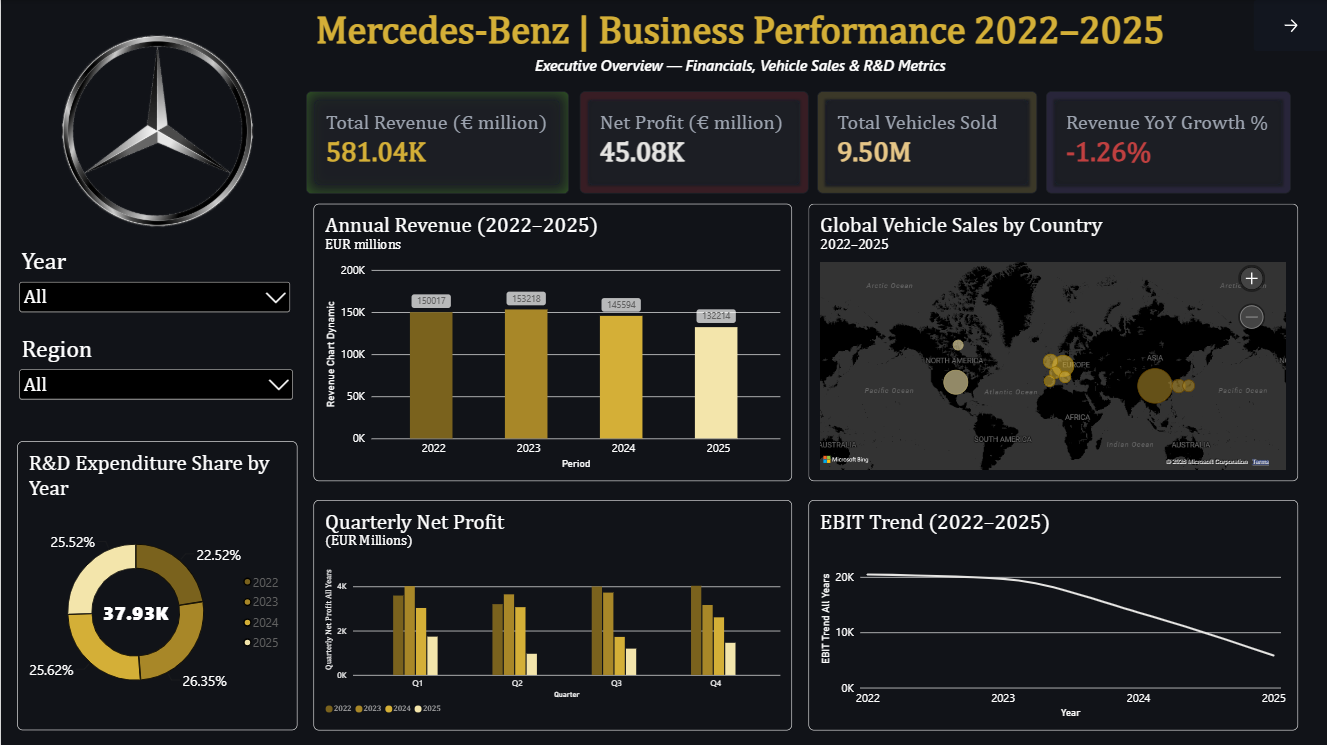

This screenshot's page, from the dashboard's own definition file:
{"tool":"powerbi","page":{"name":"Page 1","canvas":[1920,1080],"ordinal":0},"visuals":[{"type":"cardVisual","title":"Total Revenue","fields":{"Data":["Annual_Financials_All.Total Revenue"]},"box":[442.4,131.4,380.6,148.8],"z":0},{"type":"cardVisual","fields":{"Data":["Annual_Financials_All.Net Profit"]},"box":[837.9,132.1,331.2,148],"z":1000},{"type":"cardVisual","fields":{"Data":["Global_Total.Total Vehicles Sold"]},"box":[1181.7,132.1,318.5,148.4],"z":2000},{"type":"clusteredColumnChart","title":"Quarterly Net Profit ","fields":{"Category":["Dim_Quarter.Quarter"],"Series":["Dim_Year.Year"],"Y":["Quarterly_KeyFigures_2023.Quarterly Net Profit All Years"]},"box":[452.5,724,693.1,333.3],"z":3000},{"type":"lineChart","title":"EBIT Trend (2022–2025)","fields":{"Category":["Annual_Financials_All.Year"],"Y":["Annual_Financials_All.EBIT Trend All Years"]},"box":[1169.9,724,708.6,333.3],"z":4000},{"type":"textbox","box":[224.4,14.5,1692,117.6],"z":5000},{"type":"lineClusteredColumnComboChart","fields":{"Category":["Revenue_Chart_Axis.Period"],"Y":["Revenue_Chart_Axis.Revenue Chart Dynamic"]},"box":[452.5,295.8,693.1,401.7],"z":6000},{"type":"donutChart","title":"R&D Expenditure Share by Year","fields":{"Category":["Dim_Year.Year"],"Y":["Quarterly_KeyFigures_2022.R&D Expenditure Dynamic"]},"box":[23.5,638.8,405.4,418],"z":7000},{"type":"image","box":[0,36.2,441.6,305.8],"z":8000},{"type":"map","title":"Global Vehicle Sales by Country","fields":{"Category":["Country_Unit_Sold.Country"],"Series":["Country_Unit_Sold.Region"],"Size":["Sum(Country_Unit_Sold.Units_Sold)"]},"box":[1169.9,295.8,708.6,401.7],"z":9000},{"type":"slicer","fields":{"Values":["Dim_Region.Region"]},"box":[21.7,486.8,406.2,106],"z":10000},{"type":"slicer","fields":{"Values":["Dim_Year.Year"]},"box":[21.7,360.1,401.7,112.6],"z":11000},{"type":"cardVisual","title":"Revenue Growth YoY","fields":{"Data":["Annual_Financials_All.Revenue YoY Growth %"]},"box":[1512.9,132.1,354.7,148.4],"z":12000},{"type":"actionButton","box":[1813.1,0,107.3,74],"z":13000}]}

Visuals, with their boxes in screenshot pixels (x1, y1, x2, y2), scaled from the page's 1920x1080 canvas onto the 1327x745 screenshot:
"Total Revenue" cardVisual: {"left": 306, "top": 91, "right": 569, "bottom": 193}
cardVisual - Annual_Financials_All.Net Profit: {"left": 579, "top": 91, "right": 808, "bottom": 193}
cardVisual - Global_Total.Total Vehicles Sold: {"left": 817, "top": 91, "right": 1037, "bottom": 193}
"Quarterly Net Profit " clusteredColumnChart: {"left": 313, "top": 499, "right": 792, "bottom": 729}
"EBIT Trend (2022–2025)" lineChart: {"left": 809, "top": 499, "right": 1298, "bottom": 729}
textbox: {"left": 155, "top": 10, "right": 1325, "bottom": 91}
lineClusteredColumnComboChart - Revenue_Chart_Axis.Period x Revenue_Chart_Axis.Revenue Chart Dynamic: {"left": 313, "top": 204, "right": 792, "bottom": 481}
"R&D Expenditure Share by Year" donutChart: {"left": 16, "top": 441, "right": 296, "bottom": 729}
image: {"left": 0, "top": 25, "right": 305, "bottom": 236}
"Global Vehicle Sales by Country" map: {"left": 809, "top": 204, "right": 1298, "bottom": 481}
slicer - Dim_Region.Region: {"left": 15, "top": 336, "right": 296, "bottom": 409}
slicer - Dim_Year.Year: {"left": 15, "top": 248, "right": 293, "bottom": 326}
"Revenue Growth YoY" cardVisual: {"left": 1046, "top": 91, "right": 1291, "bottom": 193}
actionButton: {"left": 1253, "top": 0, "right": 1326, "bottom": 51}
